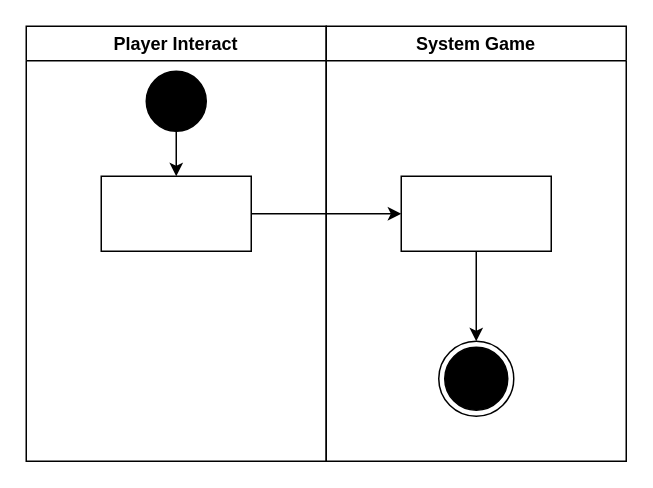
This 653x488 diagram has some shape labels left out. Each missing label, with the centre of its shape:
Menampilkan Tentang Game: [475,213]
Menekan Tombol About Game: [175,213]
